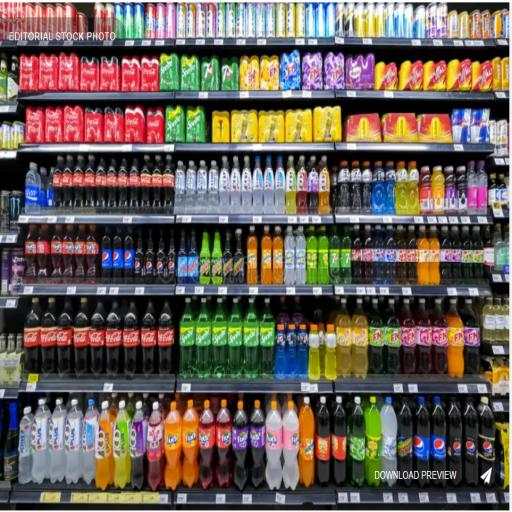coca_cola: (89, 301, 106, 376), (24, 298, 41, 372), (73, 298, 89, 375), (124, 299, 140, 376), (106, 300, 122, 375), (158, 299, 174, 373), (41, 299, 56, 375), (57, 299, 72, 375), (141, 300, 156, 374), (139, 156, 152, 207), (161, 157, 174, 206), (73, 156, 85, 207), (128, 160, 141, 207), (151, 156, 162, 207), (107, 159, 118, 207), (85, 156, 95, 206), (62, 157, 72, 206), (96, 158, 106, 207), (53, 157, 63, 205), (119, 159, 128, 207)
